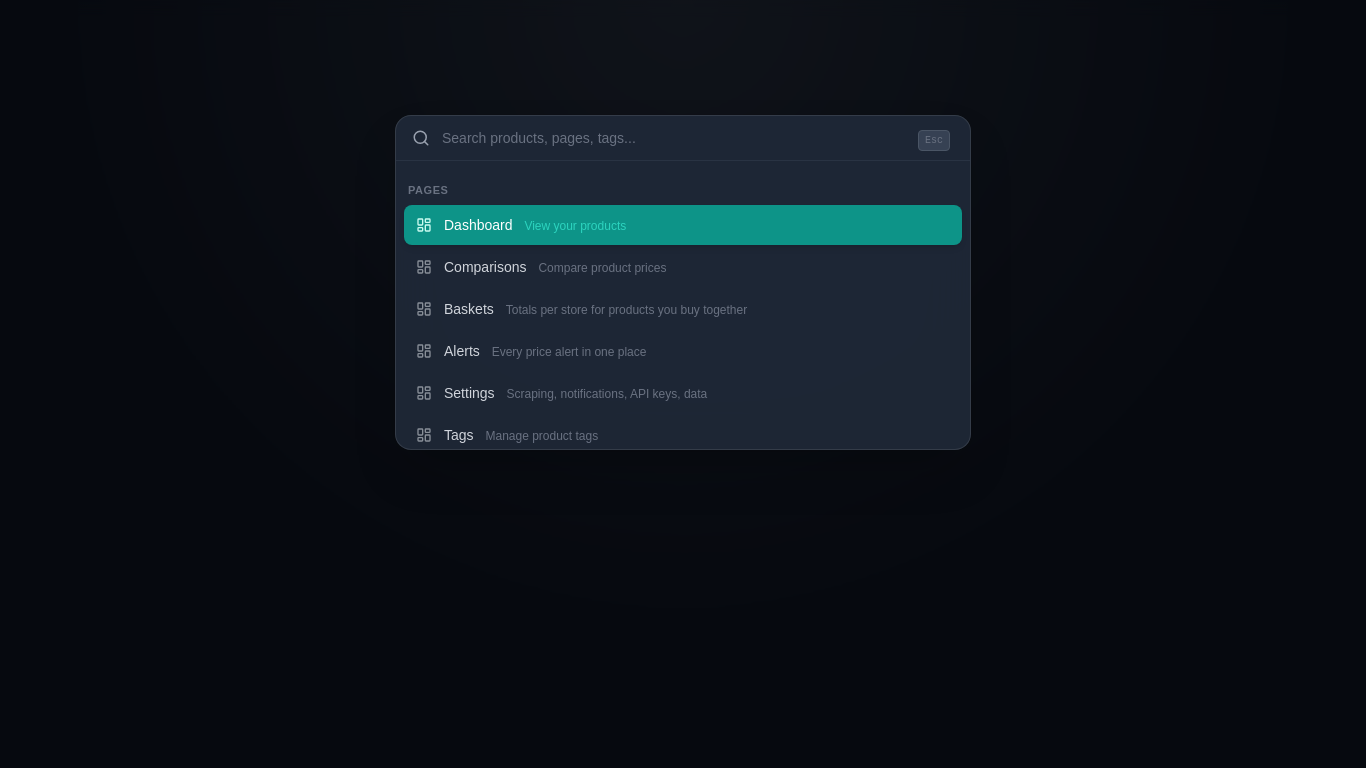
Scenario: CommandPalette › actions › should filter action items by query
In the field with placeholder "Search products, pages, tags...": (672, 138) [442,116,902,160], type "theme"
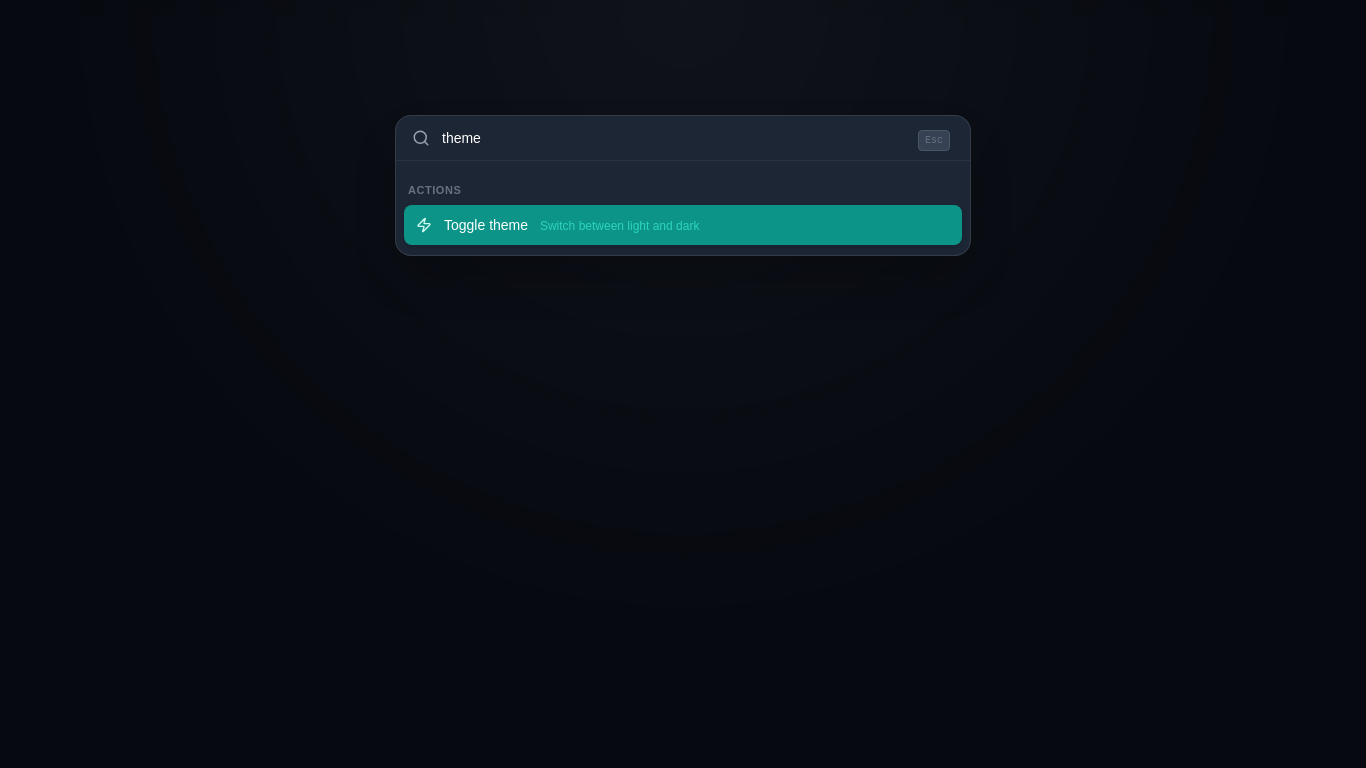
Expected: the text "Add product" is not shown
Result: the text "Toggle theme" is shown at [444,217,528,233]
